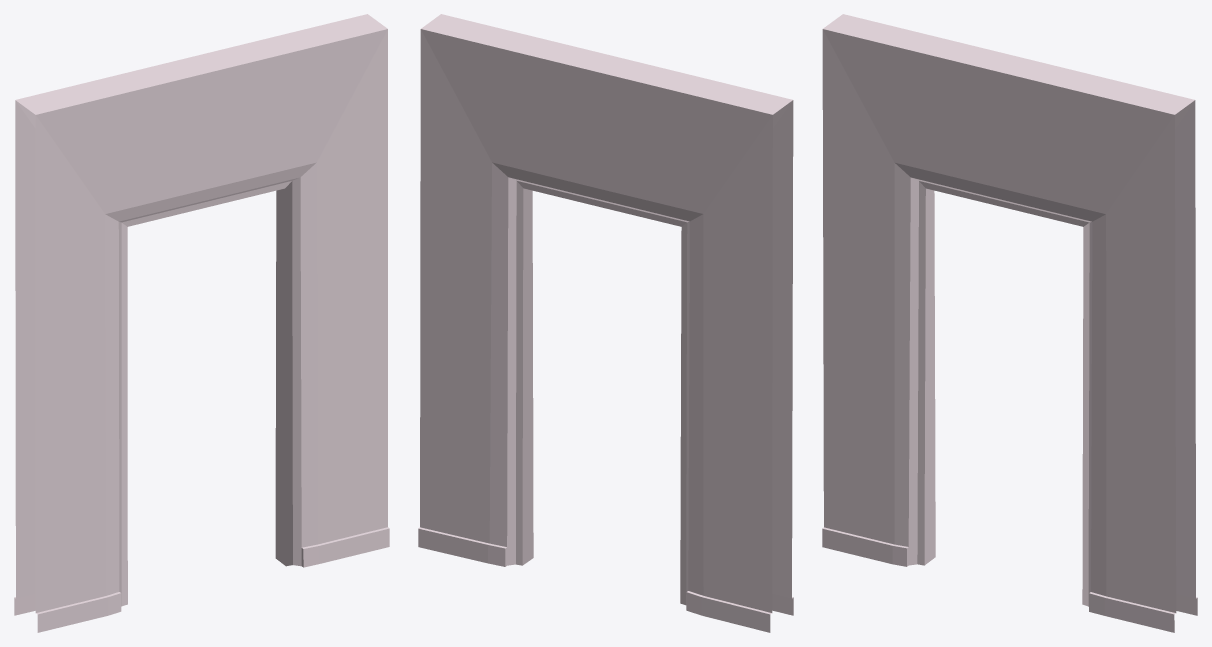
Rendered from env_wall_entry_rectangular_door_Int.fbx.
3 views of the same model, side by side, from view 1: azimuth 30°, elevation 25°; view 2: azimuth 150°, elevation 25°; view 3: azimuth 330°, elevation 25° (orthographic).
Visible parts, largest first — view 1: Casa pared rectang marco puerta Interior; view 2: Casa pared rectang marco puerta Interior; view 3: Casa pared rectang marco puerta Interior.
Part boxes in pixels (x1,y1,x2,y2): Casa pared rectang marco puerta Interior: (14, 14, 389, 632); Casa pared rectang marco puerta Interior: (418, 14, 793, 632); Casa pared rectang marco puerta Interior: (822, 14, 1197, 632).
Size of the model in its own units: 200 by 280 by 23.
1 material, 1 textured.
